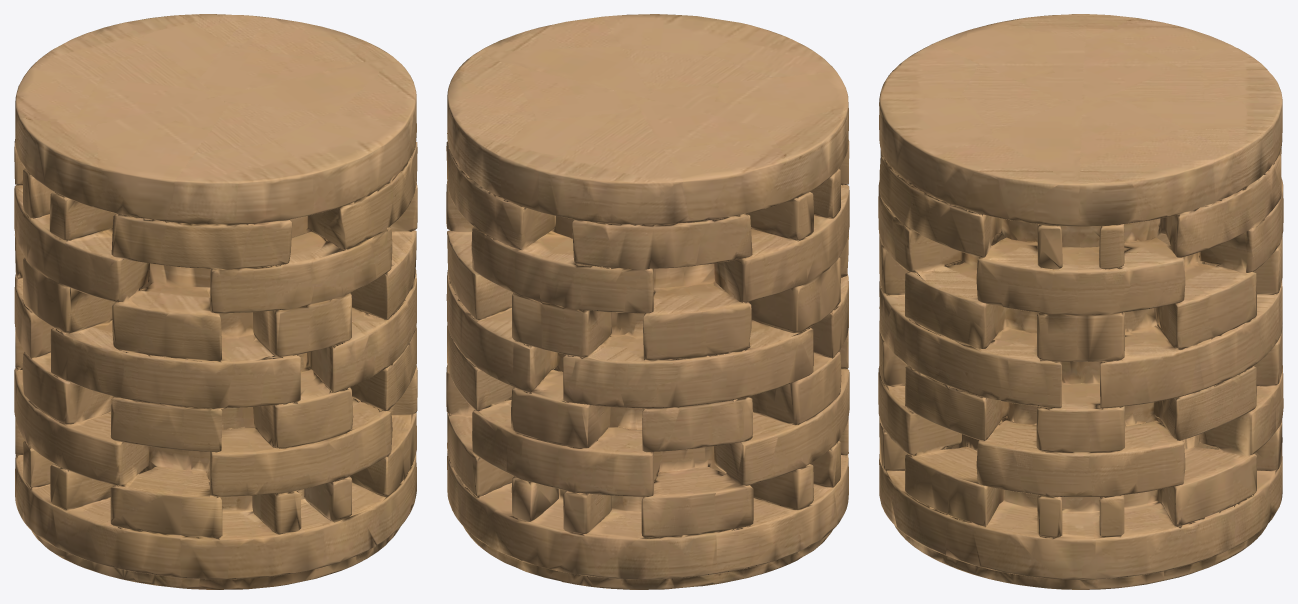
File: Cylindrical Wood Ring.glb
3 renders of one model, left to right at view 1: azimuth 30°, elevation 25°; view 2: azimuth 150°, elevation 25°; view 3: azimuth 270°, elevation 25°, orthographic.
Parts seen in each view (by area): view 1: Mesh_0.001; view 2: Mesh_0.001; view 3: Mesh_0.001.
Boxes of the visible parts, x1=… form: Mesh_0.001: x1=14, y1=14, x2=417, y2=589; Mesh_0.001: x1=446, y1=14, x2=849, y2=589; Mesh_0.001: x1=878, y1=14, x2=1283, y2=589.
Bounding box in the file's own units: 0.1791 × 0.2 × 0.1787.
1 material, 1 textured.
